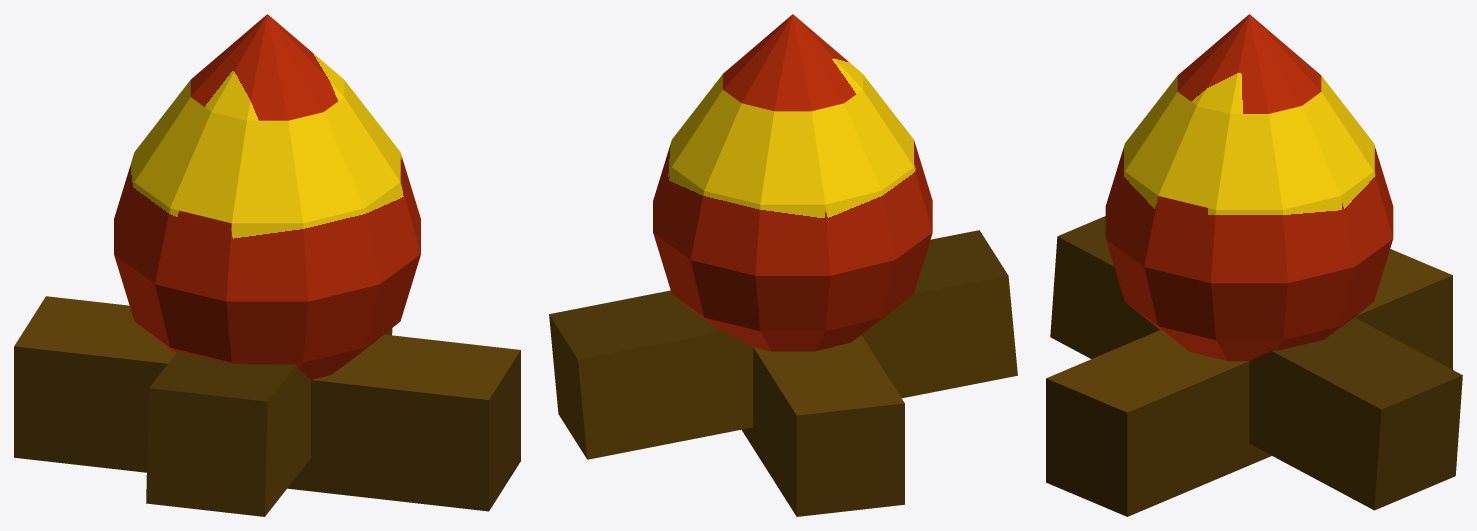
Rendered from camp_fire_2.gltf.
3 views of the same model, side by side, from view 1: azimuth 30°, elevation 25°; view 2: azimuth 150°, elevation 25°; view 3: azimuth 270°, elevation 25° (orthographic). The views are drawn at different scales.
Parts seen in each view (by area): view 1: sphere; view 2: sphere; view 3: sphere.
Boxes of the visible parts, x1,y1,x2,y2 form: sphere: (14,14,520,516); sphere: (549,14,1017,516); sphere: (1046,14,1462,516).
Bounding box in the file's own units: 9.06 × 10 × 9.06.
Materials: 1 (1 with a texture image).
